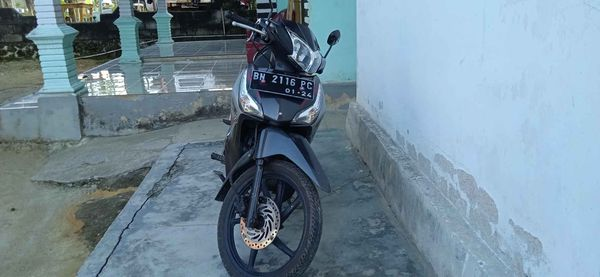plate: (249, 66, 321, 101)
